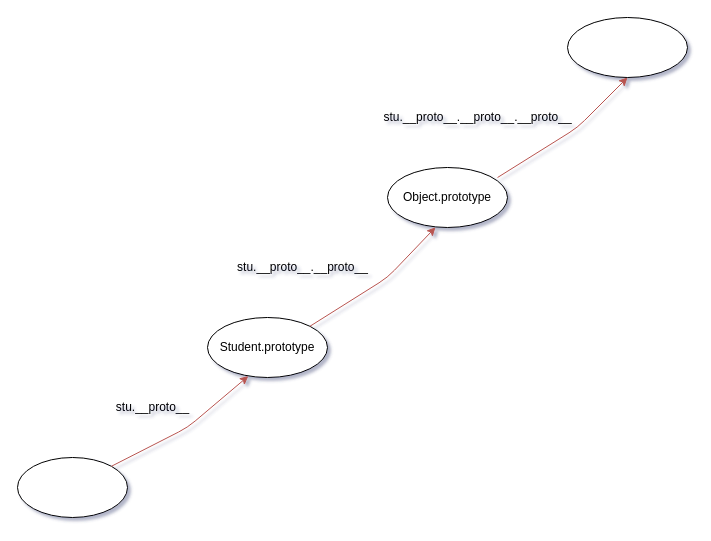
Image size: 711x541. Some labels were removed from this diagram. Here are the shapes that lost their labels. From the top down, the centre of each, then its label:
At point 627,47: "null".
At point 72,487: "stu".
